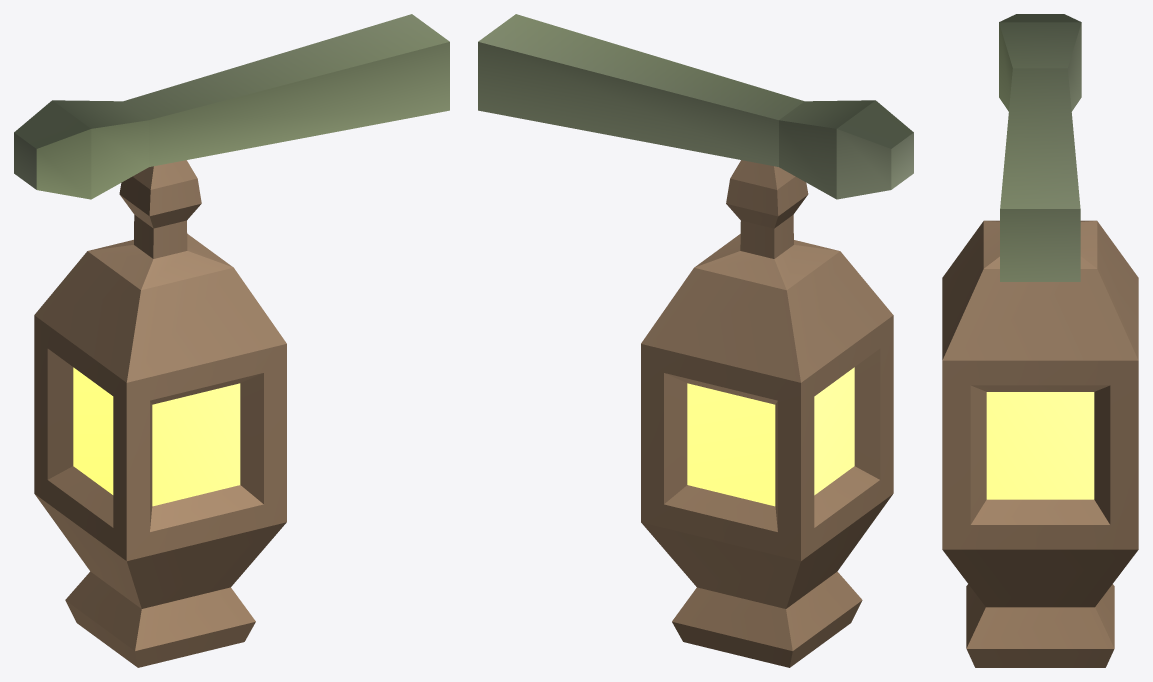
Rendered from lamp_exterior.glb.
3 views of the same model, side by side, from view 1: azimuth 30°, elevation 25°; view 2: azimuth 150°, elevation 25°; view 3: azimuth 270°, elevation 25° (orthographic). The views are drawn at different scales.
Visible parts, largest first — view 1: lamp_exterior; view 2: lamp_exterior; view 3: lamp_exterior.
Part boxes in pixels (x1,y1,x2,y2): lamp_exterior: [14, 14, 449, 667]; lamp_exterior: [478, 14, 913, 667]; lamp_exterior: [942, 14, 1138, 667].
Size of what is drawn, in the model's own units: 2.19 by 2.78 by 0.8647.
Materials: 1 (1 with a texture image).
